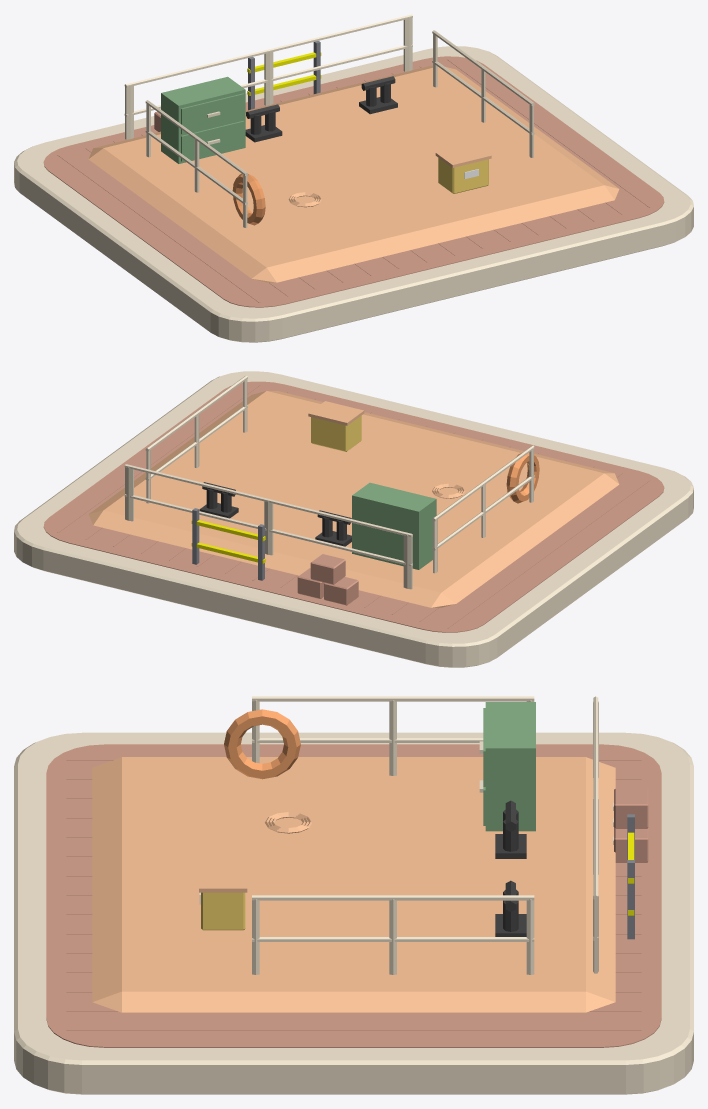
3 views of the same model, one above another, from view 1: azimuth 30°, elevation 25°; view 2: azimuth 150°, elevation 25°; view 3: azimuth 270°, elevation 25° (orthographic). The views are drawn at different scales.
Parts seen in each view (by area): view 1: Deck, COM-01 Rounded Base Direct, COM-02 Floor Surface, Cabinet, Box, Rail.005, Life ring, Lid, Rail.004, Rail.003, Rail.001, Rail.002 (+3 smaller); view 2: Deck, COM-01 Rounded Base Direct, COM-02 Floor Surface, Cabinet, Box, Rail.005, Rail.004, Life ring, Stacked case.002, Lid, Stacked case, Stacked case.001 (+7 smaller); view 3: Deck, COM-01 Rounded Base Direct, COM-02 Floor Surface, Cabinet, Life ring, Box, Rail.001, Rail.003, Lid, Rail.002, Stacked case.002, Rail.005 (+3 smaller).
Part boxes in pixels (left/top/right/bottom): Deck: left=88, top=65, right=619, bottom=282; COM-01 Rounded Base Direct: left=14, top=46, right=693, bottom=342; COM-02 Floor Surface: left=43, top=56, right=664, bottom=307; Cabinet: left=161, top=76, right=245, bottom=163; Box: left=438, top=158, right=488, bottom=193; Rail.005: left=124, top=14, right=412, bottom=87; Life ring: left=232, top=173, right=265, bottom=225; Lid: left=435, top=143, right=491, bottom=167; Rail.004: left=124, top=44, right=412, bottom=116; Rail.003: left=432, top=30, right=534, bottom=106; Rail.001: left=145, top=100, right=247, bottom=176; Rail.002: left=432, top=60, right=534, bottom=135; Deck: left=88, top=391, right=619, bottom=607; COM-01 Rounded Base Direct: left=14, top=371, right=693, bottom=667; COM-02 Floor Surface: left=43, top=381, right=664, bottom=632; Cabinet: left=352, top=482, right=436, bottom=569; Box: left=311, top=415, right=361, bottom=451; Rail.005: left=124, top=464, right=412, bottom=537; Rail.004: left=124, top=494, right=412, bottom=566; Life ring: left=506, top=453, right=539, bottom=503; Stacked case.002: left=310, top=554, right=345, bottom=584; Lid: left=308, top=401, right=364, bottom=425; Stacked case: left=324, top=577, right=358, bottom=605; Stacked case.001: left=297, top=568, right=324, bottom=598; Deck: left=92, top=757, right=615, bottom=1012; COM-01 Rounded Base Direct: left=14, top=732, right=693, bottom=1094; COM-02 Floor Surface: left=46, top=744, right=661, bottom=1047; Cabinet: left=479, top=702, right=535, bottom=831; Life ring: left=224, top=709, right=300, bottom=779; Box: left=201, top=892, right=245, bottom=930; Rail.001: left=252, top=696, right=534, bottom=701; Rail.003: left=252, top=895, right=534, bottom=900; Lid: left=199, top=861, right=247, bottom=892; Rail.002: left=252, top=937, right=534, bottom=941; Stacked case.002: left=614, top=788, right=648, bottom=828; Rail.005: left=593, top=696, right=598, bottom=900.
Size of the model in its own units: 6 by 1.18 by 5.2.
1 material, 1 textured.
